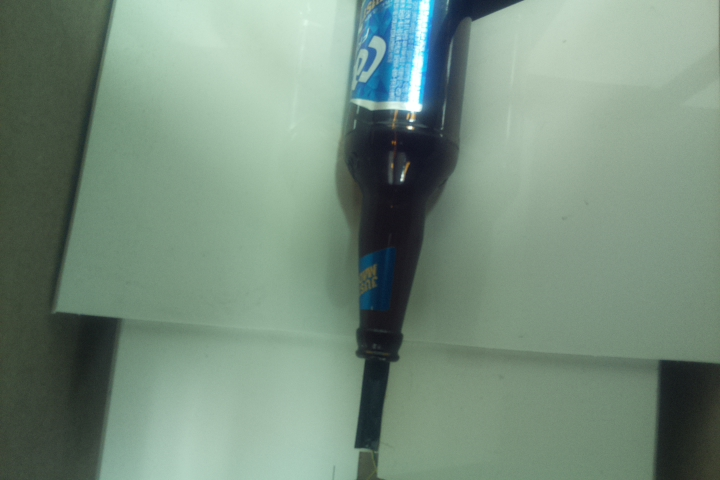makju: (337, 1, 476, 365)
